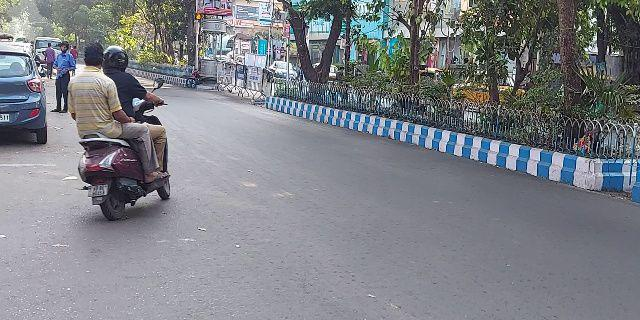Car: (1, 45, 51, 145)
Motorbike: (67, 42, 177, 222)
